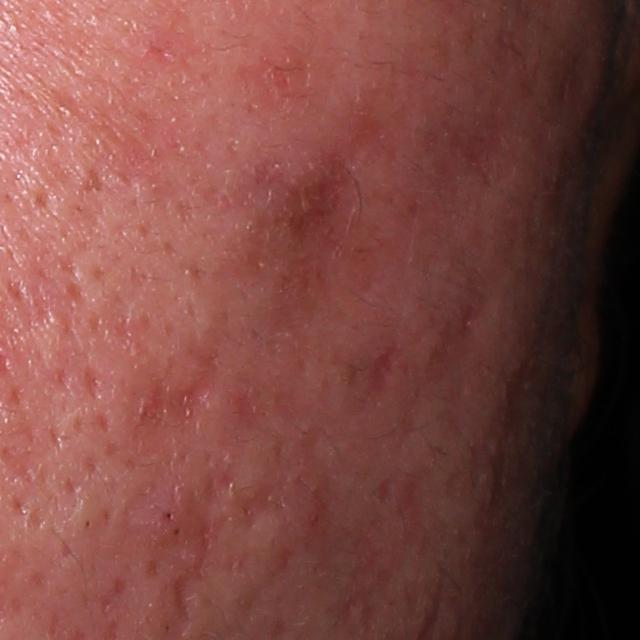atrophic_scar: (425, 46, 580, 238), (120, 363, 219, 536), (425, 280, 517, 401), (361, 351, 395, 390)
